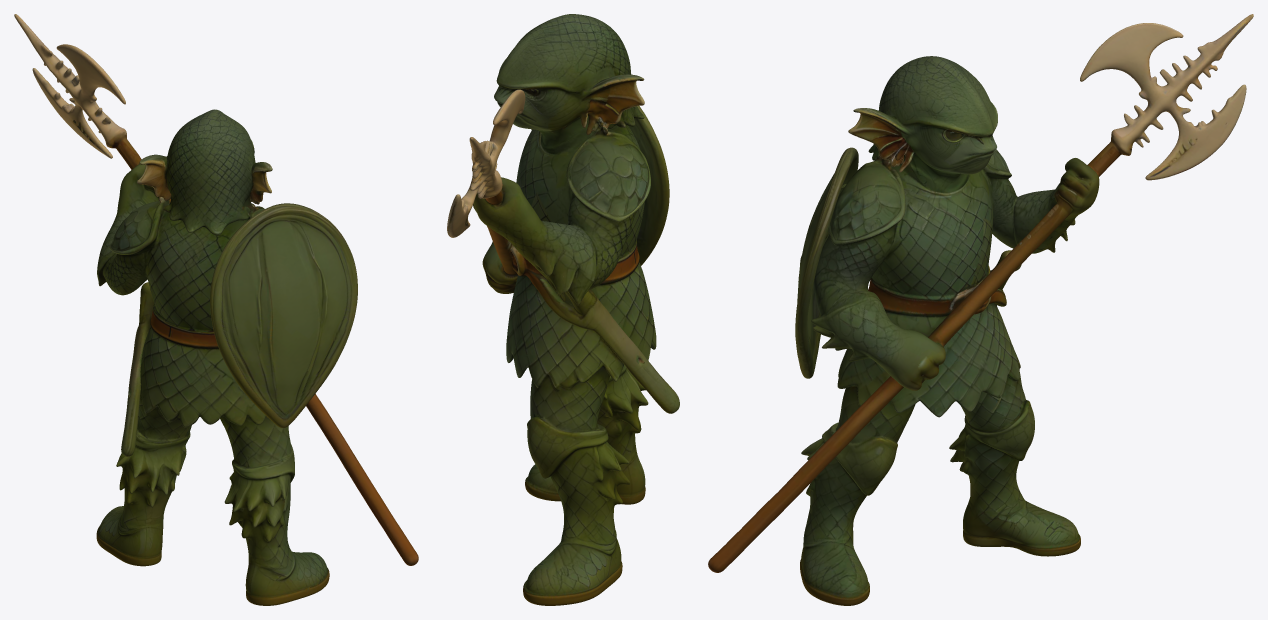
The picture shows the model from 3 angles, left to right: view 1: azimuth 30°, elevation 25°; view 2: azimuth 150°, elevation 25°; view 3: azimuth 270°, elevation 25°; orthographic projection. The views are drawn at different scales.
Visible parts, largest first — view 1: tripo_node_f953d839-af23-4edf-957d-5ad84bfb77f6; view 2: tripo_node_f953d839-af23-4edf-957d-5ad84bfb77f6; view 3: tripo_node_f953d839-af23-4edf-957d-5ad84bfb77f6.
Boxes of the visible parts, box(x1,y1,x2,y2) form: tripo_node_f953d839-af23-4edf-957d-5ad84bfb77f6: box(14, 14, 418, 605); tripo_node_f953d839-af23-4edf-957d-5ad84bfb77f6: box(447, 14, 679, 605); tripo_node_f953d839-af23-4edf-957d-5ad84bfb77f6: box(708, 14, 1253, 605).
Bounding box in the file's own units: 0.4544 × 1 × 0.9489.
Materials: 1 (1 with a texture image).
